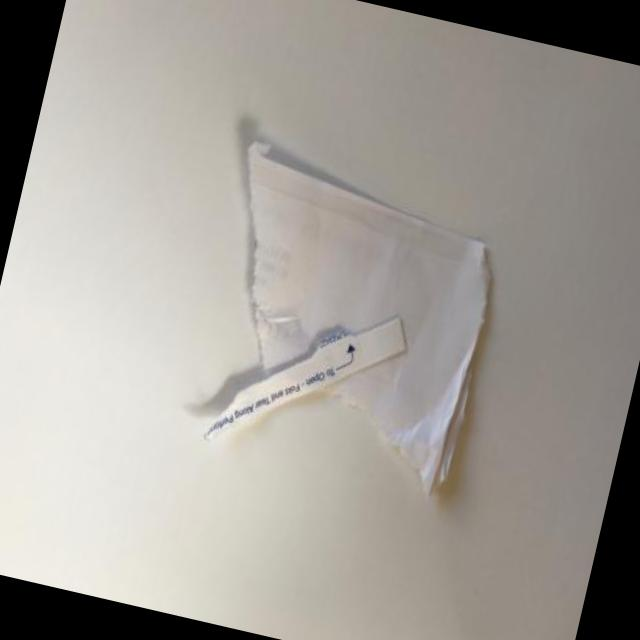paper: (168, 144, 517, 524)
